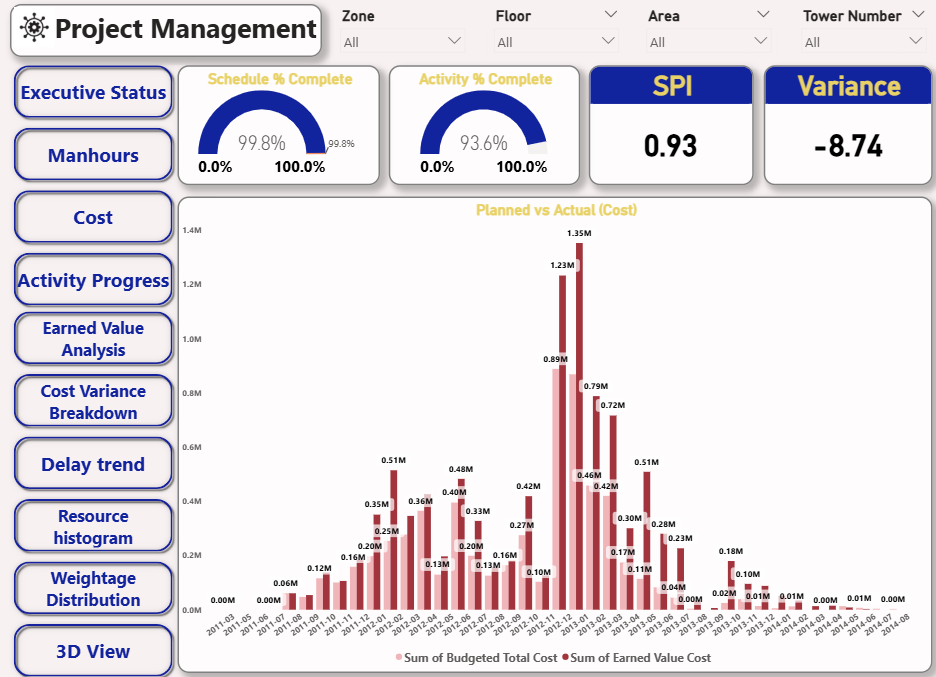

The dashboard page shown, as its layout file describes it:
{"tool":"powerbi","page":{"name":"Cost","canvas":[1500,1100],"ordinal":2},"visuals":[{"type":"textbox","box":[15.2,16.2,499.3,84.6],"z":0},{"type":"image","box":[15.2,16.9,77.9,74.5],"z":1000},{"type":"slicer","fields":{"Values":["Floorcodes_Table.Floor Code Value"]},"box":[780.3,16.9,220,84.6],"z":2000},{"type":"slicer","fields":{"Values":["H areas_Table.H aresCode Value"]},"box":[1024,16.9,220,84.6],"z":3000},{"type":"slicer","fields":{"Values":["Aug14tasks_Table.Zone Number"]},"box":[534.9,16.9,220,84.6],"z":4000},{"type":"actionButton","box":[14,106,270,100],"z":5000},{"type":"actionButton","box":[14,206,270,100],"z":6000},{"type":"actionButton","box":[14,306,270,100],"z":7000},{"type":"actionButton","box":[14,406,270,100],"z":8000},{"type":"actionButton","box":[14,500,270,100],"z":9000},{"type":"actionButton","box":[14,600,270,100],"z":10000},{"type":"actionButton","box":[14,700,270,100],"z":11000},{"type":"actionButton","box":[14,800,270,100],"z":12000},{"type":"actionButton","box":[14,900,270,100],"z":13000},{"type":"actionButton","box":[14,1000,270,100],"z":14000},{"type":"slicer","fields":{"Values":["Task_Table.Tower Number"]},"box":[1272.9,16.9,220,84.6],"z":15000},{"type":"gauge","fields":{"Y":["Aug14tasks_Table.ActivityPercent"]},"box":[622,114,306,192],"z":16000},{"type":"gauge","title":"Schedule % Complete","fields":{"Y":["Aug14tasks_Table.SchedulePercent"]},"box":[284,114,324,192],"z":17000},{"type":"card","title":"SPI","fields":{"Values":["Sum(Summary_Table.SPI)"]},"box":[942,114,264,192],"z":18000},{"type":"card","title":"Variance","fields":{"Values":["Sum(Summary_Table.Variance)"]},"box":[1222,114,270,192],"z":19000},{"type":"lineClusteredColumnComboChart","title":"Planned vs Actual (Cost)","fields":{"Y":["select","Sum(Task_Table.Budgeted Total Cost)","Sum(Task_Table.Earned Value Cost)"],"Category":["Task_Table.MonthYear"]},"box":[284,324,1208,762],"z":20000}]}

Visuals, with their boxes in screenshot pixels (x1, y1, x2, y2), scaled from the page's 1500x1100 canvas onto the 936x677 screenshot:
textbox: 9 10 321 62
image: 9 10 58 56
slicer - Floorcodes_Table.Floor Code Value: 487 10 624 62
slicer - H areas_Table.H aresCode Value: 639 10 776 62
slicer - Aug14tasks_Table.Zone Number: 334 10 471 62
actionButton: 9 65 177 127
actionButton: 9 127 177 188
actionButton: 9 188 177 250
actionButton: 9 250 177 311
actionButton: 9 308 177 369
actionButton: 9 369 177 431
actionButton: 9 431 177 492
actionButton: 9 492 177 554
actionButton: 9 554 177 615
actionButton: 9 615 177 676
slicer - Task_Table.Tower Number: 794 10 932 62
gauge - Aug14tasks_Table.ActivityPercent: 388 70 579 188
"Schedule % Complete" gauge: 177 70 379 188
"SPI" card: 588 70 753 188
"Variance" card: 763 70 931 188
"Planned vs Actual (Cost)" lineClusteredColumnComboChart: 177 199 931 668
